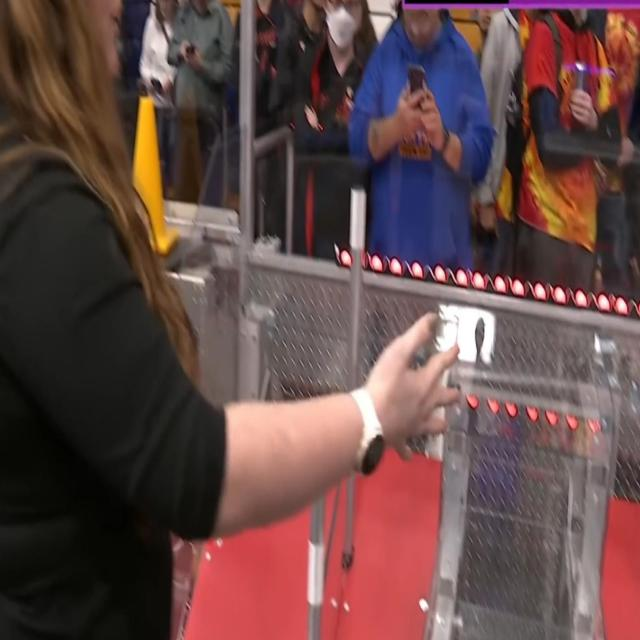frc_cone: (123, 97, 175, 258)
